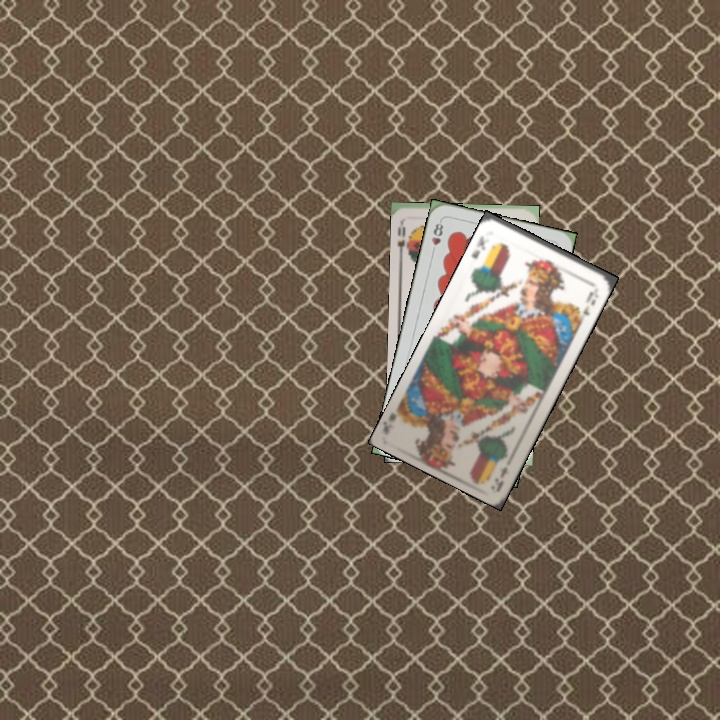EK: (467, 232, 489, 262), (490, 462, 510, 491)
H8: (427, 217, 446, 257)
SO: (393, 217, 413, 258)
